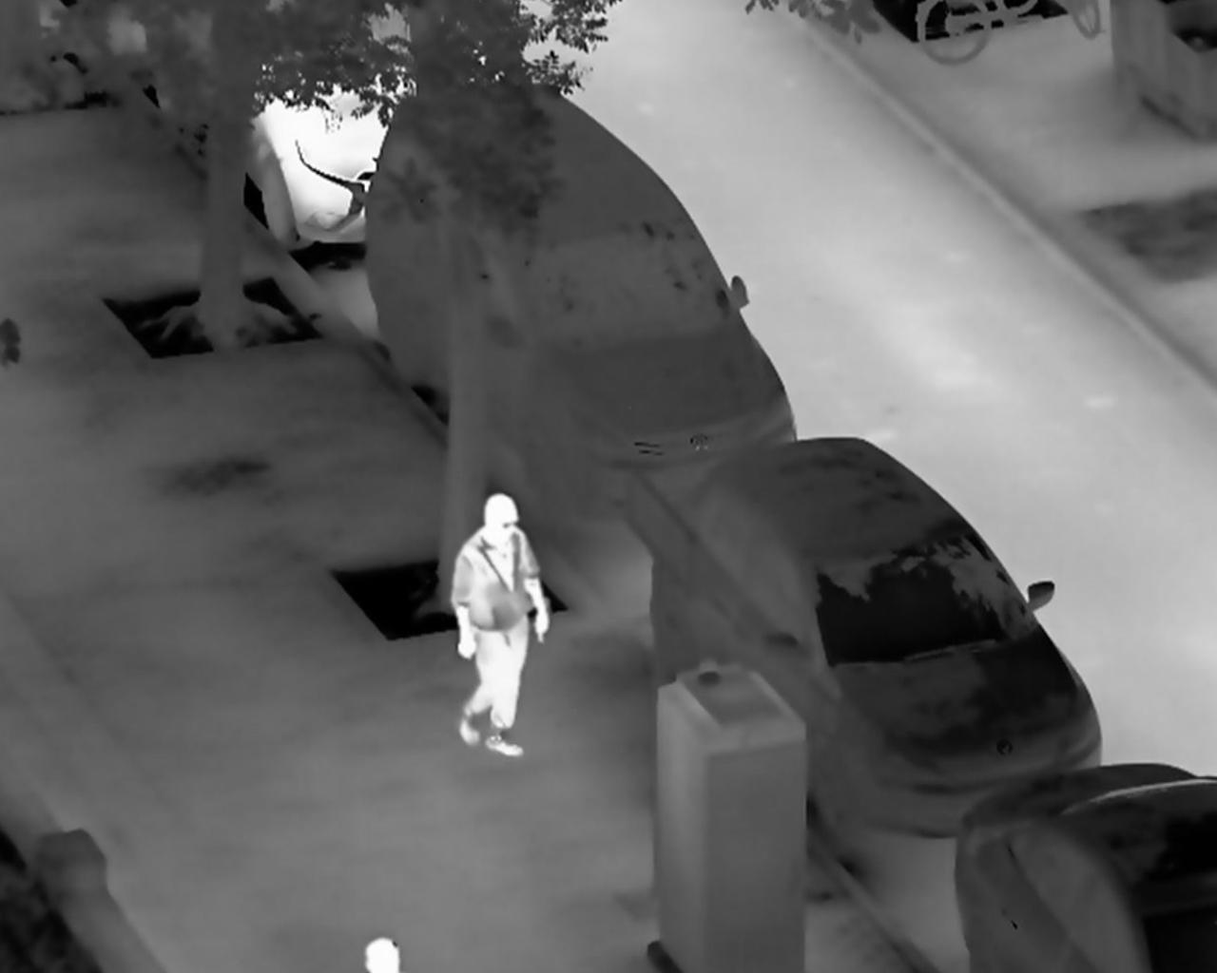person: (446, 492, 550, 760)
